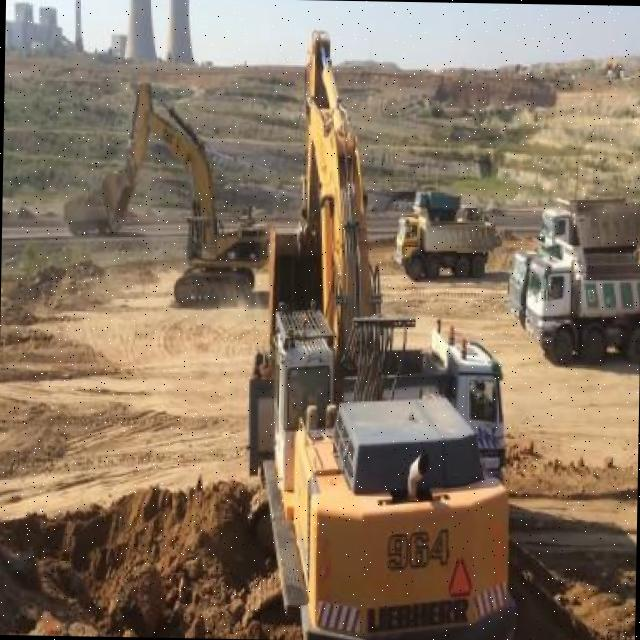Dump Truck: (525, 236, 640, 366), (392, 194, 498, 277), (544, 187, 640, 257)
Excavator: (239, 14, 526, 640), (100, 82, 272, 306)
